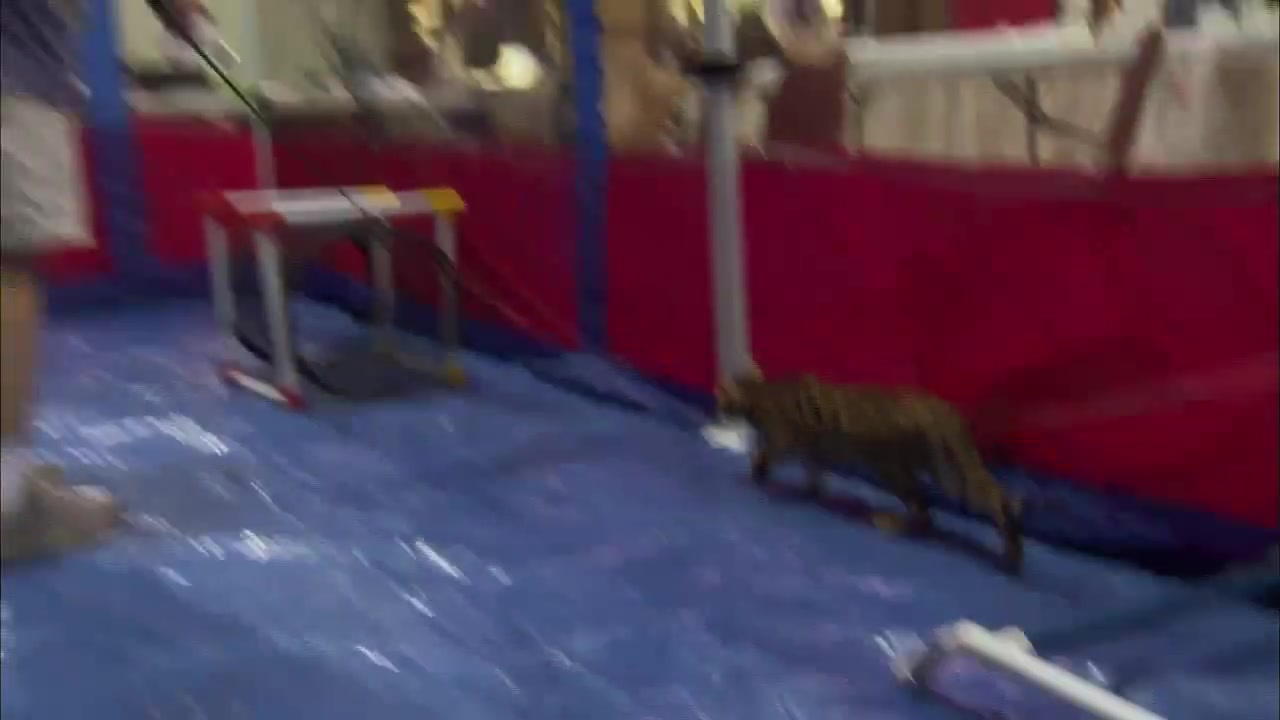cat: (714, 365, 1030, 575)
